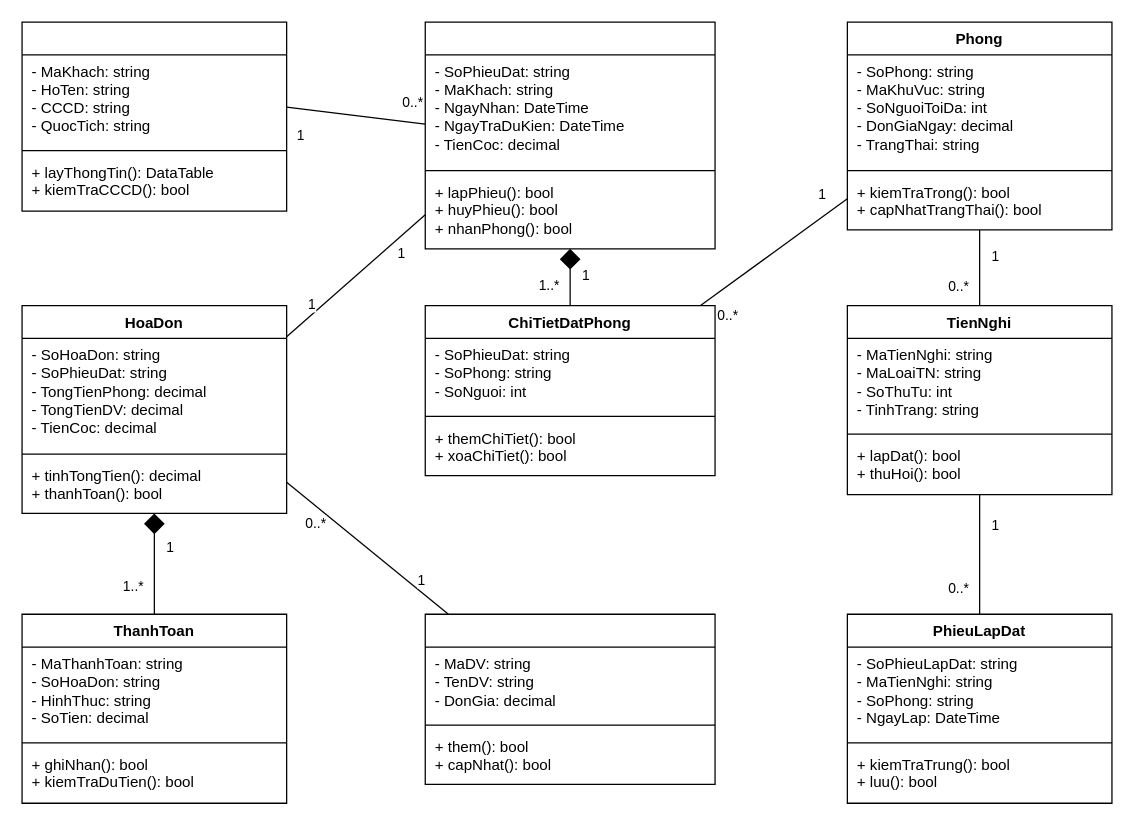
The diagram is 1134 pixels wide and 829 high, and some of its shapes have lost their labels. Here are the shapes that lost their labels. From the top down, the box of each, then its label:
(21, 21, 287, 211): KhachHang
(424, 21, 715, 249): PhieuDatPhong
(424, 613, 715, 784): DichVu
